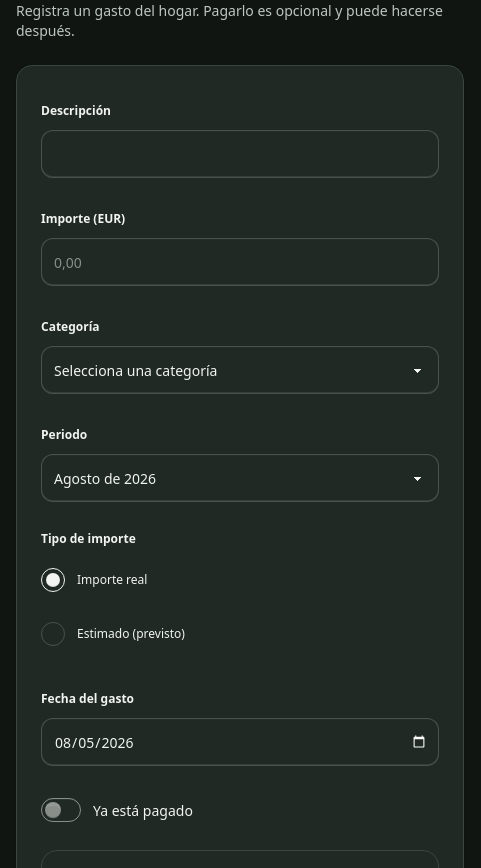
Test: NewExpensePage › reveals payment fields only when the expense is marked as paid
Expected: the field labelled "Cuenta del pago" is not shown
Click the checkbox labelled "Ya está pagado".
click(61, 810)  # box [41,798,81,822]
(page scrolled)
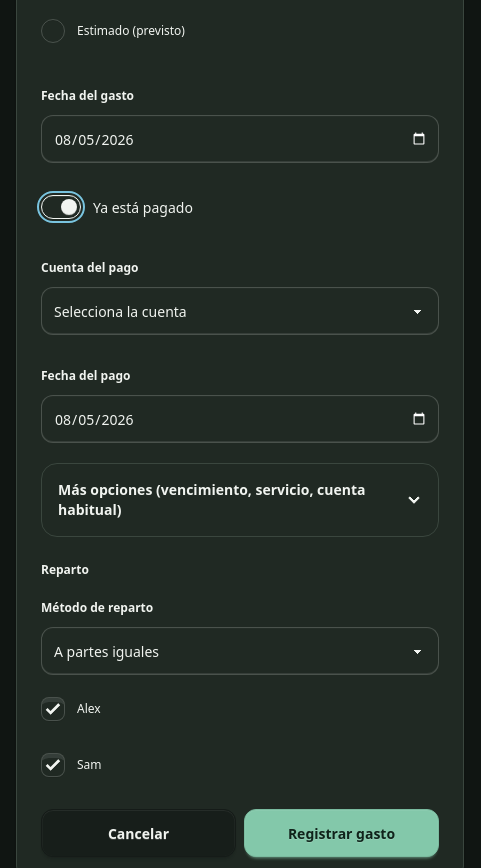
Now the dropdown labelled "Cuenta del pago" is shown, box [41,287,439,335]
Now the date field labelled "Fecha del pago" is shown, box [41,395,439,443]
